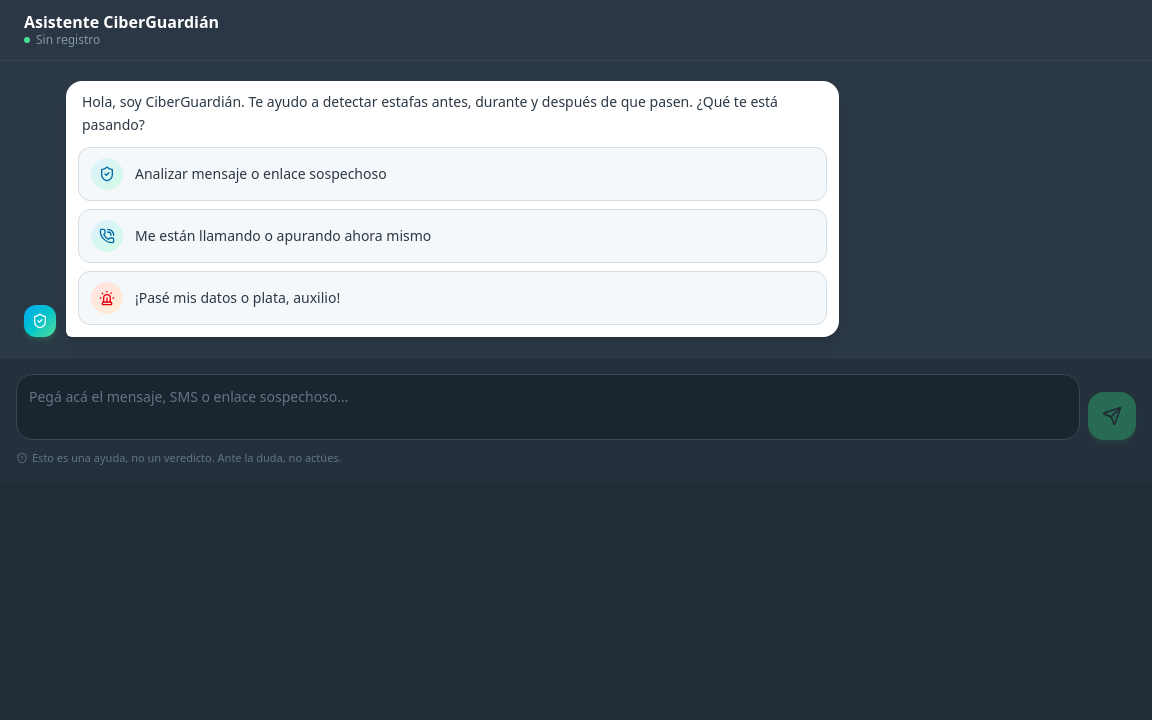
ChatAssistant › abre el modal SOS en el flujo de auxilio
The image size is (1152, 720).
Click the button "¡Pasé mis datos o plata, auxilio!": (107, 298) [78,270,827,324]
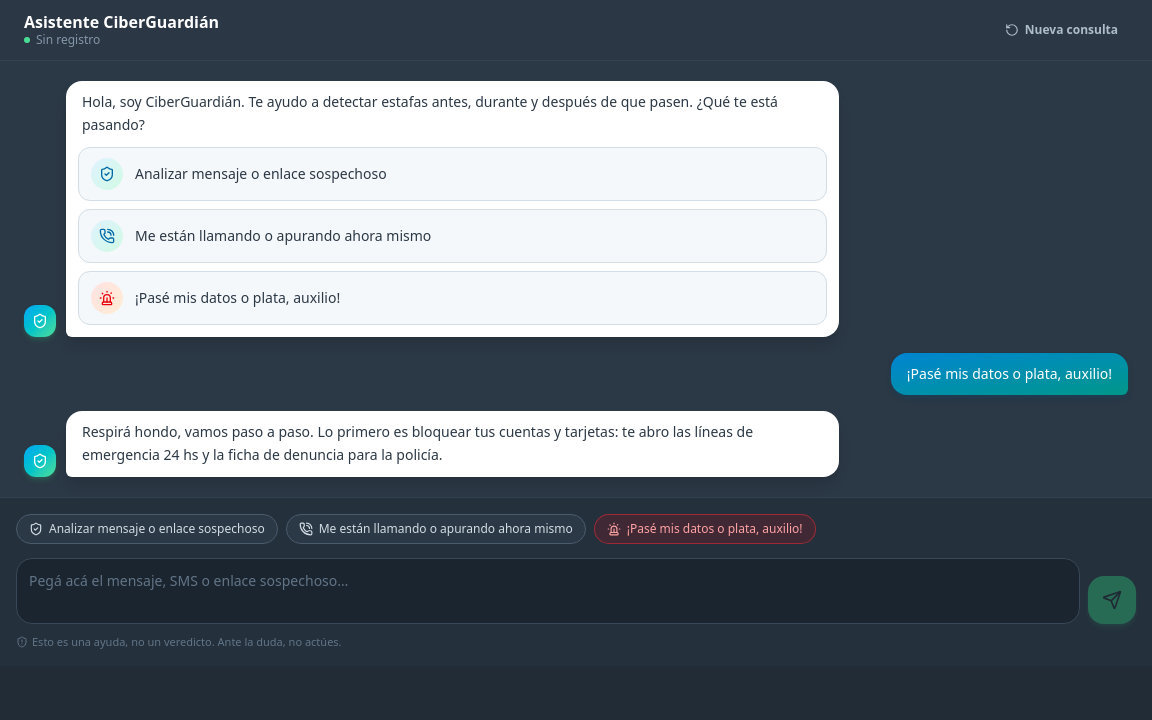
Expected: the text "Respirá hondo, vamos paso a paso. Lo primero es bloquear tus cuentas y tarjetas: te abro las líneas de emergencia 24 hs " is shown, [82,422,757,464]
